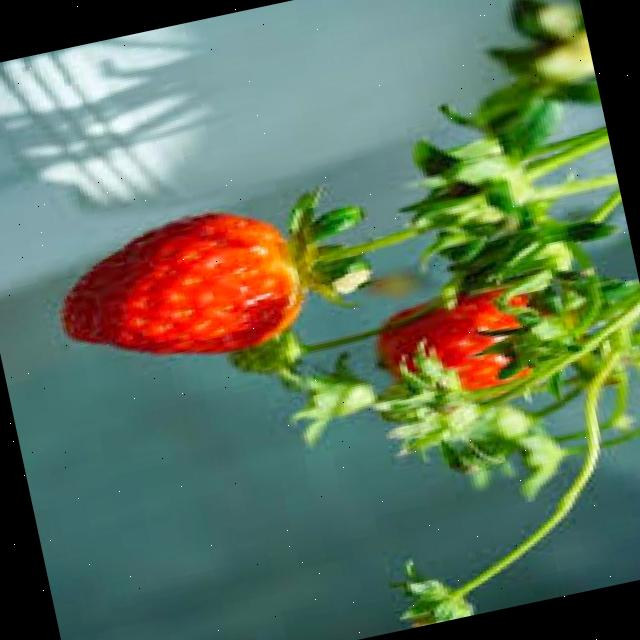strawberry: (49, 198, 312, 382)
